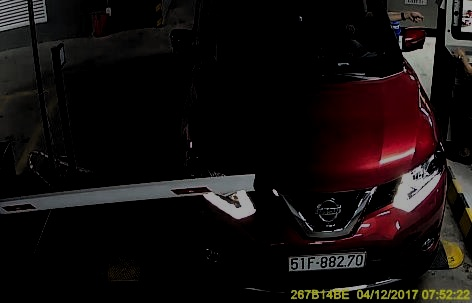plate: (288, 245, 367, 271)
